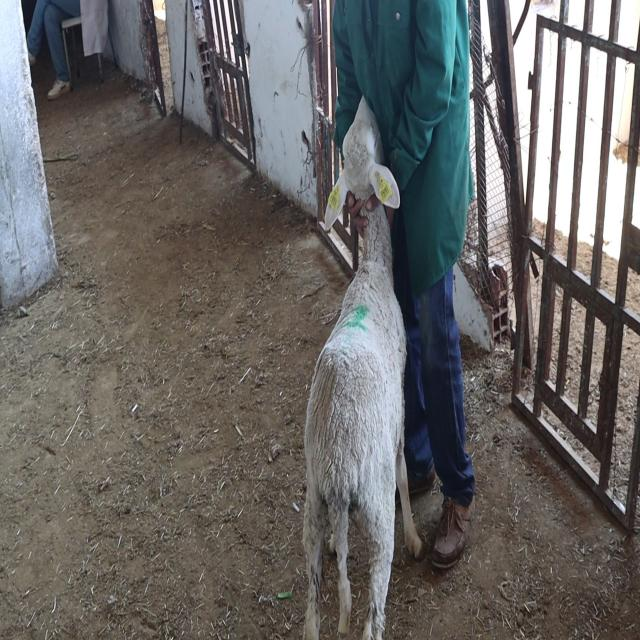Score_3: (302, 101, 422, 639)
